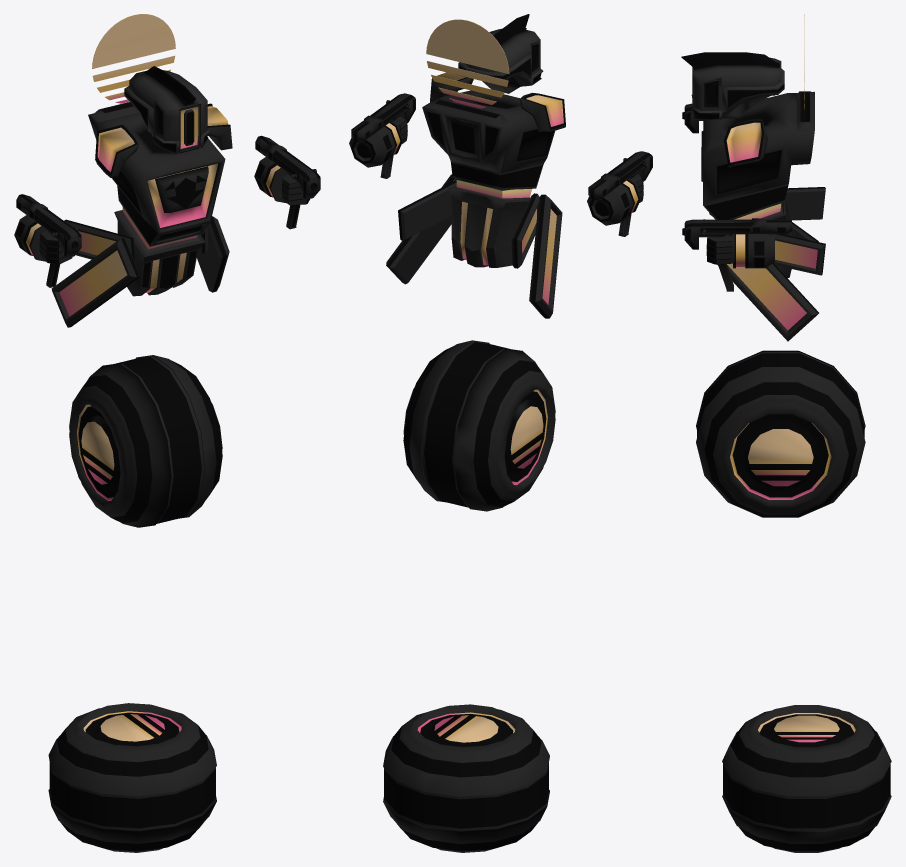
Rendered from CROSSBOLT.fbx.
3 views of the same model, side by side, from view 1: azimuth 30°, elevation 25°; view 2: azimuth 150°, elevation 25°; view 3: azimuth 270°, elevation 25° (orthographic).
Visible parts, largest first — view 1: 03_BIGWHEEL (Appendage), 03_BIGWHEEL (Projectile), 03_BIGWHEEL (×2), Body, Right Thingie, Head, Sun, Body Lower, Left XBow Grip, Right XBow Grip, Right Shoulder, Left Thingie (+5 smaller); view 2: 03_BIGWHEEL (Appendage), 03_BIGWHEEL (Projectile), 03_BIGWHEEL (×2), Body, Body Lower, Sun, Right Thingie, Left Thingie, Head, Left XBow Grip, Right XBow Grip, Right Arm (+3 smaller); view 3: 03_BIGWHEEL (Appendage), 03_BIGWHEEL (Projectile), Body, 03_BIGWHEEL (×2), Head, Left Thingie, Left XBow Grip, Left Shoulder, Right Thingie, Left Arm, Left Hand.
Boxes of the visible parts, x1,y1,x2,y2 form: 03_BIGWHEEL (Appendage): (69, 355, 222, 527); 03_BIGWHEEL (Projectile): (48, 703, 216, 852); 03_BIGWHEEL (×2): (49, 356, 215, 830); Body: (88, 102, 225, 246); Right Thingie: (51, 219, 140, 327); Head: (124, 66, 209, 153); Sun: (92, 14, 175, 103); Body Lower: (114, 210, 205, 296); Left XBow Grip: (255, 135, 320, 229); Right XBow Grip: (16, 194, 81, 287); Right Shoulder: (95, 124, 139, 177); Left Thingie: (196, 216, 229, 292); 03_BIGWHEEL (Appendage): (403, 340, 555, 511); 03_BIGWHEEL (Projectile): (383, 704, 549, 852); 03_BIGWHEEL (×2): (384, 341, 548, 831); Body: (422, 90, 554, 189); Body Lower: (448, 186, 529, 267); Sun: (426, 19, 509, 108); Right Thingie: (511, 193, 562, 318); Left Thingie: (386, 174, 456, 284); Head: (458, 14, 543, 93); Left XBow Grip: (351, 93, 415, 178); Right XBow Grip: (588, 151, 652, 236); Right Arm: (587, 178, 641, 225); 03_BIGWHEEL (Appendage): (696, 350, 865, 517); 03_BIGWHEEL (Projectile): (722, 705, 891, 852); Body: (701, 91, 814, 219); 03_BIGWHEEL (×2): (697, 352, 890, 830); Head: (681, 52, 784, 119); Left Thingie: (717, 234, 825, 341); Left XBow Grip: (682, 218, 791, 291); Left Shoulder: (724, 119, 767, 167); Right Thingie: (709, 187, 825, 241); Left Arm: (733, 234, 774, 268); Left Hand: (706, 234, 732, 264).
Size of the model in its own units: 149 by 419 by 98.27.
